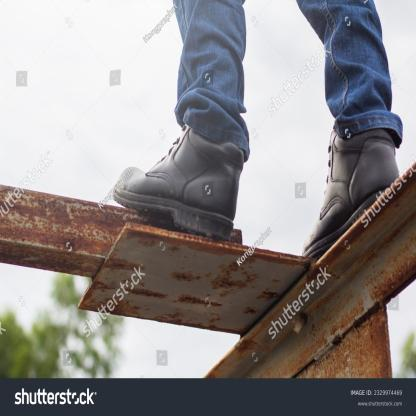bota: (110, 122, 248, 245), (300, 123, 401, 258)
